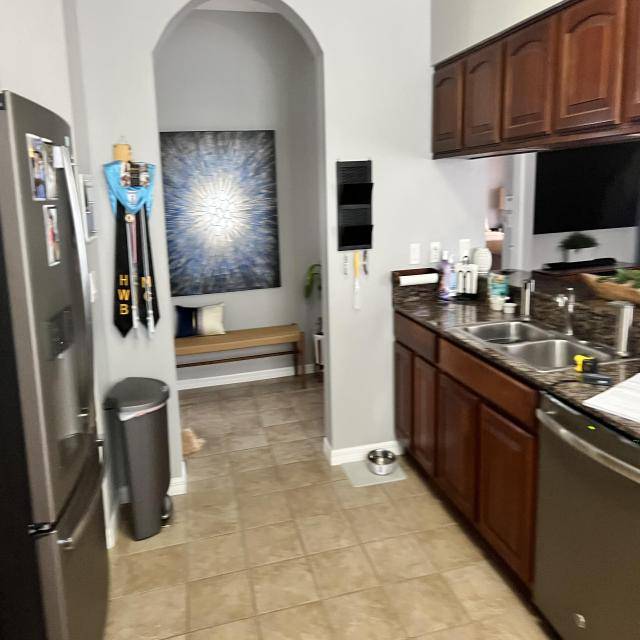Appliance_Fridge: (0, 92, 106, 640), (534, 395, 640, 640)
Appliance_Sink: (449, 289, 598, 368)
Cabinet_Flat: (394, 313, 538, 437)
Cabinet_Raised_Panel: (396, 343, 536, 584), (434, 0, 640, 160)
Countertop_Granite: (394, 283, 640, 444)
